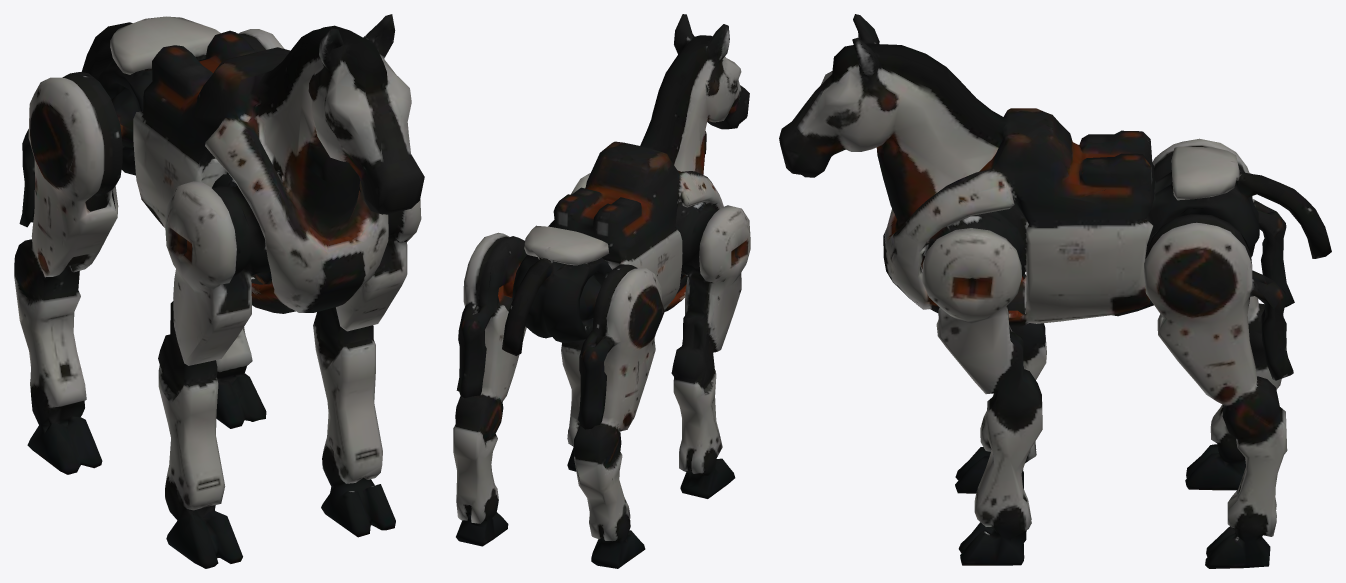
File: detail_13_lo.glb
3 views of the same model, side by side, from view 1: azimuth 30°, elevation 25°; view 2: azimuth 150°, elevation 25°; view 3: azimuth 270°, elevation 25° (orthographic). The views are drawn at different scales.
Parts seen in each view (by area): view 1: Mesh_0.001; view 2: Mesh_0.001; view 3: Mesh_0.001.
Boxes of the visible parts, x1,y1,x2,y2 form: Mesh_0.001: (14,14,424,568); Mesh_0.001: (453,14,750,568); Mesh_0.001: (779,14,1331,568).
Bounding box in the file's own units: 0.4298 × 0.9973 × 0.9991.
1 material, 1 textured.
